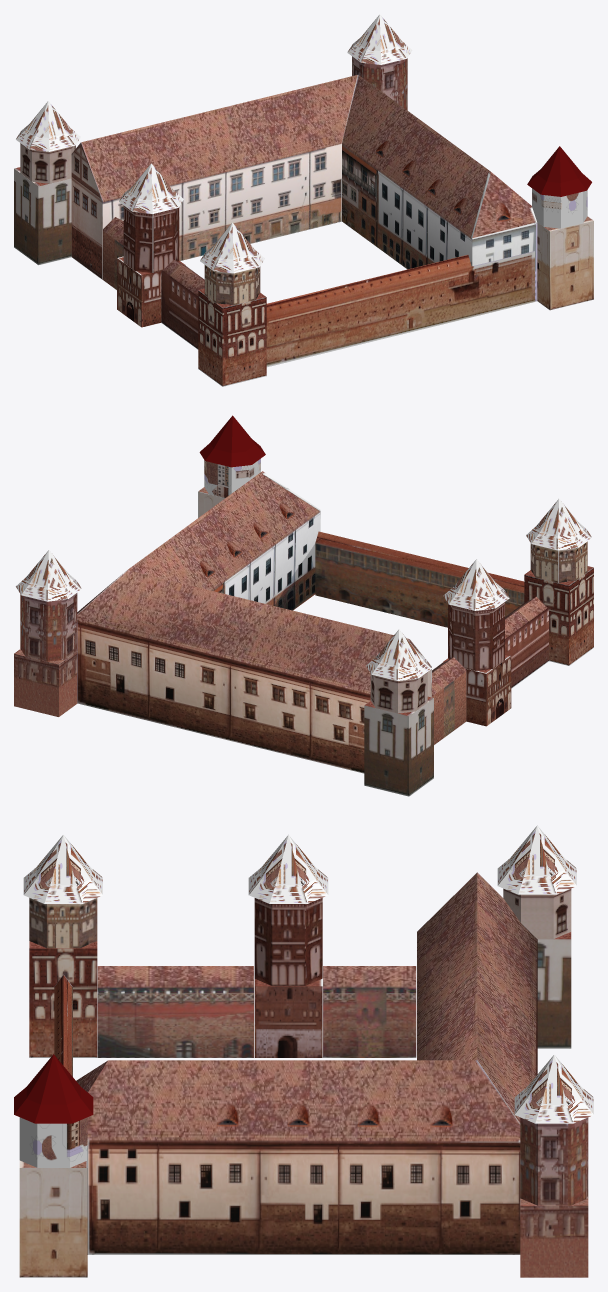
Rendered from mir_castle.glb.
3 views of the same model, one above another, from view 1: azimuth 30°, elevation 25°; view 2: azimuth 150°, elevation 25°; view 3: azimuth 270°, elevation 25° (orthographic). The views are drawn at different scales.
Bounding box in the file's own units: 2999 × 1105 × 2786.
19 materials, 18 textured.
